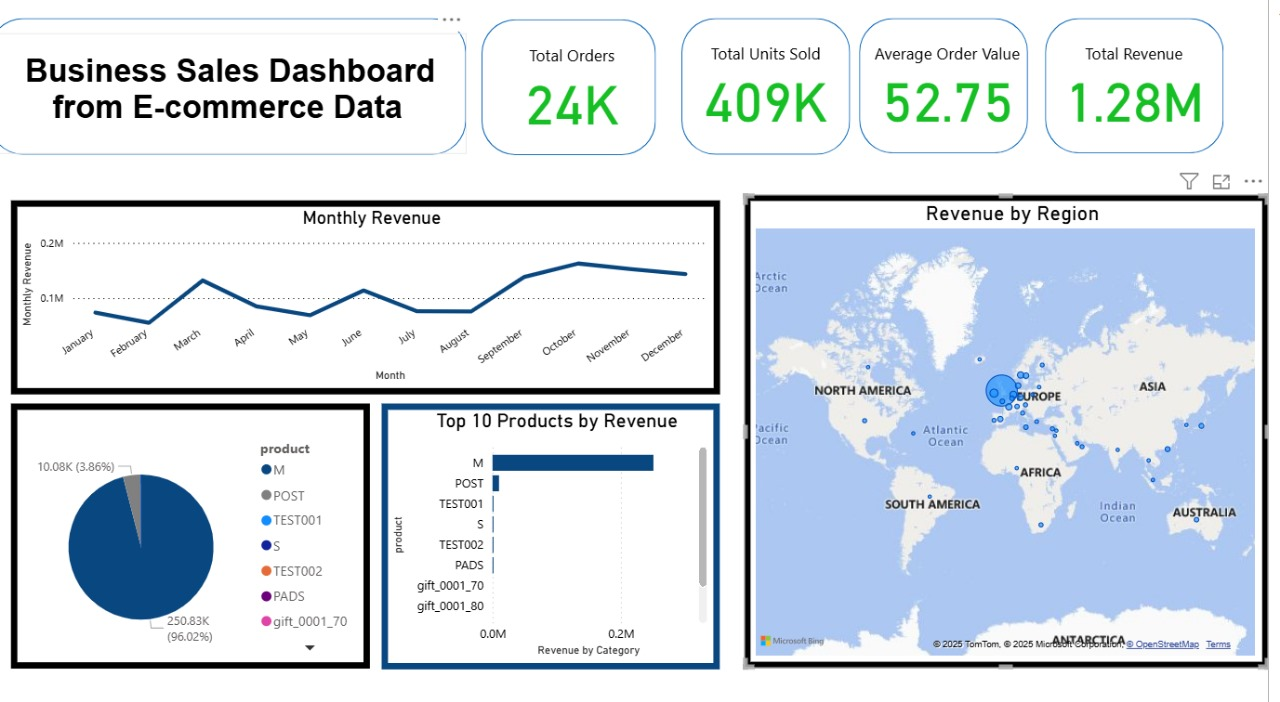

What the dashboard file says about the page in this screenshot:
{"tool":"powerbi","page":{"name":"Page 1","canvas":[1280,720],"ordinal":0},"visuals":[{"type":"shape","box":[692.7,25.1,169,136.9],"z":1000},{"type":"shape","box":[871.5,25.1,169,135.5],"z":2000},{"type":"shape","box":[1057.2,25.1,178.8,135.5],"z":3000},{"type":"shape","box":[493,26.7,174.4,136],"z":4000},{"type":"cardVisual","fields":{"Data":["Sales.Total Revenue"]},"box":[1050.3,32.1,192.7,121.5],"z":5000},{"type":"cardVisual","fields":{"Data":["Sales.Total Units Sold"]},"box":[696.9,32.1,162,121.5],"z":6000},{"type":"cardVisual","fields":{"Data":["Sales.Average Order Value"]},"box":[861.7,32.1,195.5,121.5],"z":7000},{"type":"cardVisual","fields":{"Data":["Sales.Total Orders"]},"box":[493,34.9,181.4,120.9],"z":8000},{"type":"lineChart","title":"Monthly Revenue","fields":{"Category":["Sales.order_date.Variation.Date Hierarchy.Year","Sales.order_date.Variation.Date Hierarchy.Quarter","Sales.order_date.Variation.Date Hierarchy.Month","Sales.order_date.Variation.Date Hierarchy.Day"],"Y":["Sales.Monthly Revenue"]},"box":[22.1,208.1,709.3,194.2],"z":9000},{"type":"barChart","title":"Top 10 Products by Revenue","fields":{"Y":["Sales.Revenue by Category"],"Category":["Sales.product"]},"box":[393,411.6,338.4,266.3],"z":10000},{"type":"pieChart","title":"Revenue by Category","fields":{"Y":["Sales.Revenue by Category"],"Category":["Sales.product"]},"box":[22.3,412,358.9,265.4],"z":11000},{"type":"map","title":"Revenue by Region","fields":{"Category":["Sales.region"],"Size":["Sales.Revenue by Region"]},"box":[755.8,202.3,524.4,474.4],"z":12000},{"type":"shape","box":[0,25.1,477.6,136.9],"z":13000},{"type":"textbox","box":[0,40.5,477.6,121.5],"z":14000}]}

Visuals, with their boxes in screenshot pixels (x1, y1, x2, y2), scaled from the page's 1280x720 canvas onto the 1280x702 screenshot:
shape: x1=693, y1=24, x2=862, y2=158
shape: x1=872, y1=24, x2=1040, y2=157
shape: x1=1057, y1=24, x2=1236, y2=157
shape: x1=493, y1=26, x2=667, y2=159
cardVisual - Sales.Total Revenue: x1=1050, y1=31, x2=1243, y2=150
cardVisual - Sales.Total Units Sold: x1=697, y1=31, x2=859, y2=150
cardVisual - Sales.Average Order Value: x1=862, y1=31, x2=1057, y2=150
cardVisual - Sales.Total Orders: x1=493, y1=34, x2=674, y2=152
"Monthly Revenue" lineChart: x1=22, y1=203, x2=731, y2=392
"Top 10 Products by Revenue" barChart: x1=393, y1=401, x2=731, y2=661
"Revenue by Category" pieChart: x1=22, y1=402, x2=381, y2=660
"Revenue by Region" map: x1=756, y1=197, x2=1279, y2=660
shape: x1=0, y1=24, x2=478, y2=158
textbox: x1=0, y1=39, x2=478, y2=158
